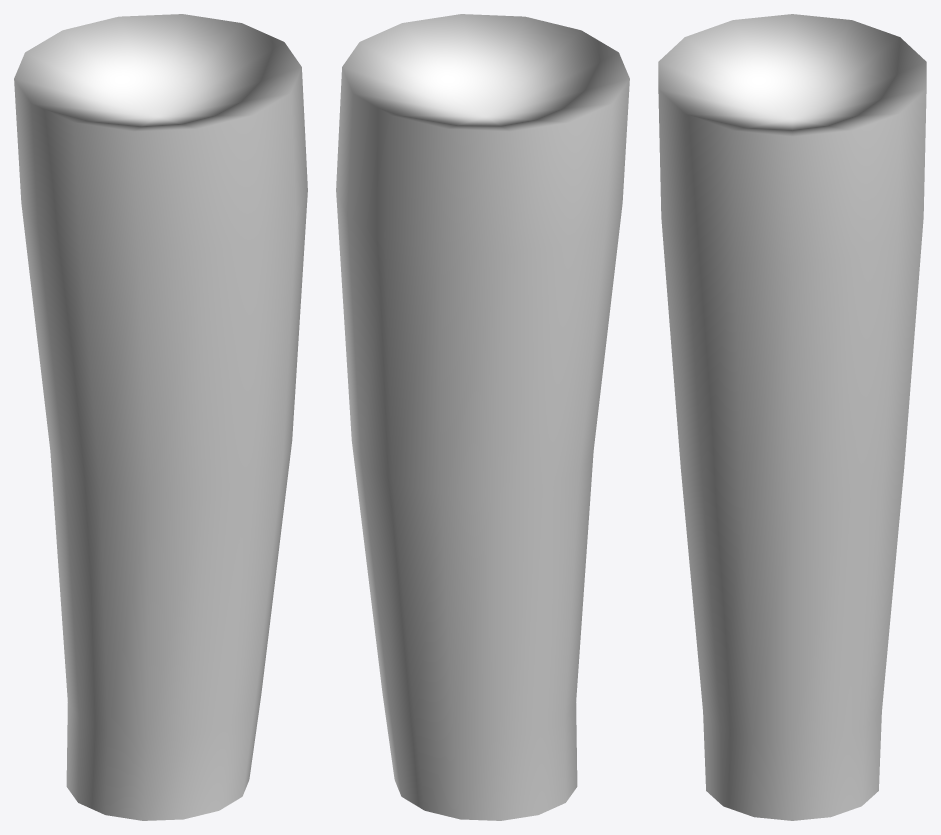
The model's file is thigh.obj.
The picture shows the model from 3 angles, left to right: view 1: azimuth 30°, elevation 25°; view 2: azimuth 150°, elevation 25°; view 3: azimuth 270°, elevation 25°; orthographic projection.
Parts seen in each view (by area): view 1: thigh_TrousersPaint; view 2: thigh_TrousersPaint; view 3: thigh_TrousersPaint.
Boxes of the visible parts, <box> form: thigh_TrousersPaint: <box>14,14,307,820</box>; thigh_TrousersPaint: <box>336,14,629,820</box>; thigh_TrousersPaint: <box>658,14,926,820</box>.
Bounding box in the file's own units: 0.195 × 0.51 × 0.1754.
Materials: 1 (1 with a texture image).
